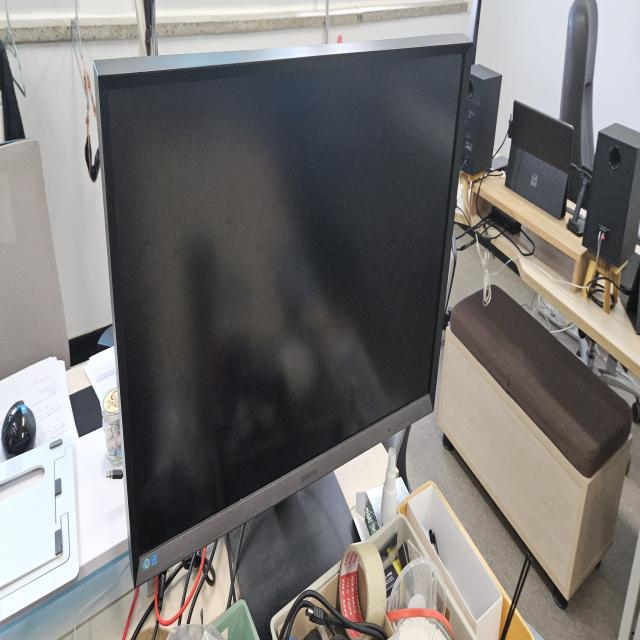Monitor: (90, 29, 476, 589)
Mouse: (1, 395, 37, 460)
